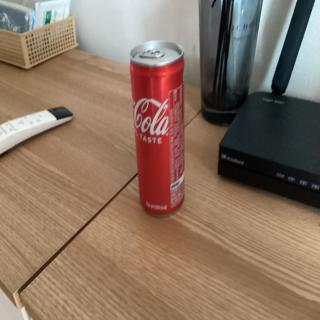cocacola: (126, 36, 192, 220)
